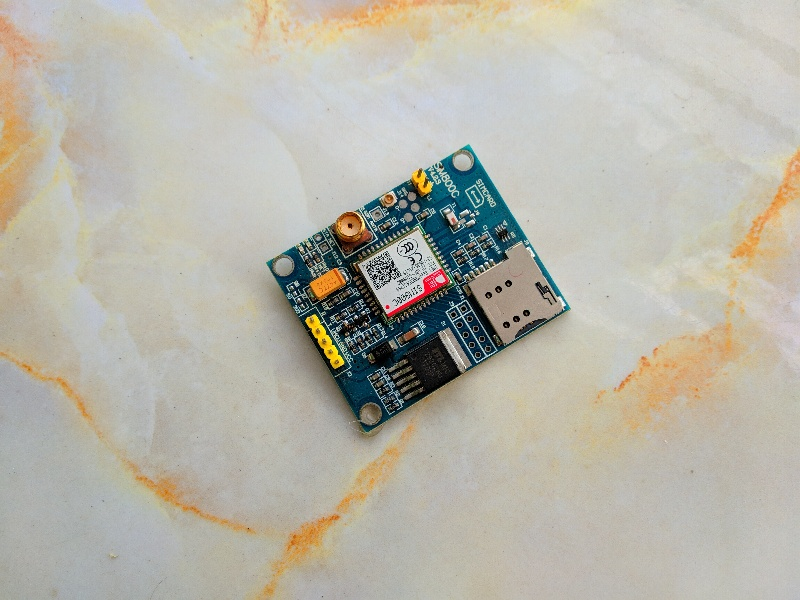SIM800: (256, 135, 581, 441)
